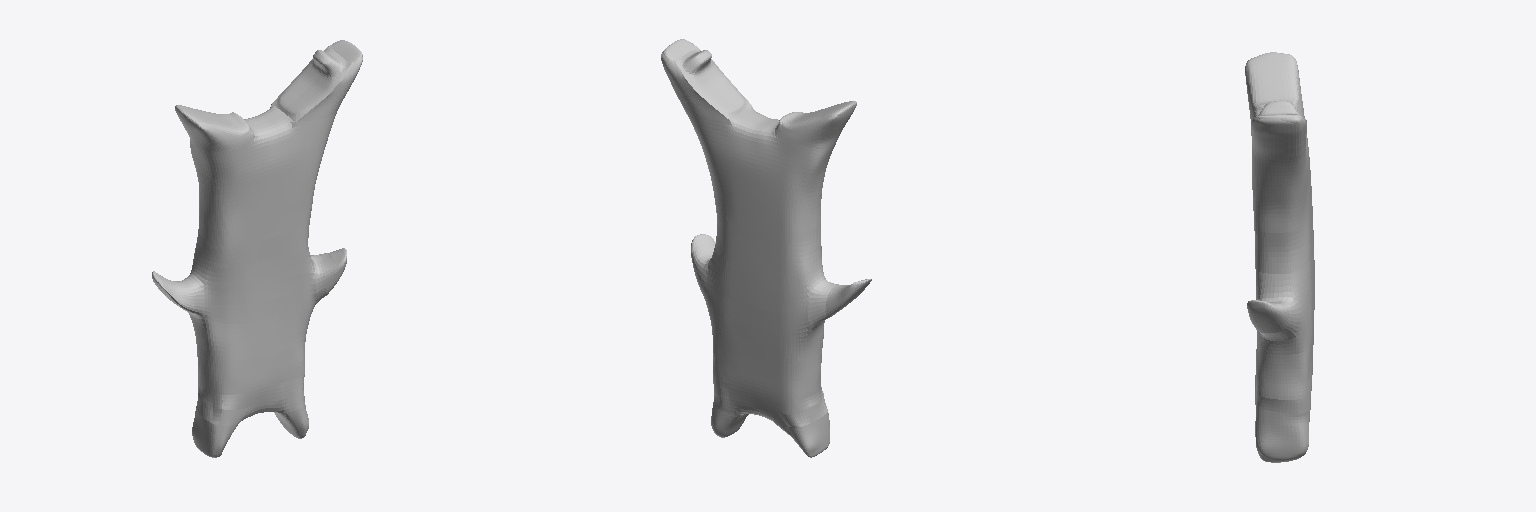
Rendered from korok18.obj.
3 views of the same model, side by side, from view 1: azimuth 30°, elevation 25°; view 2: azimuth 150°, elevation 25°; view 3: azimuth 270°, elevation 25° (orthographic).
Parts seen in each view (by area): view 1: Plane; view 2: Plane; view 3: Plane.
Part boxes in pixels (x1,y1,x2,y2): Plane: (152,40,362,457); Plane: (661,39,871,457); Plane: (1245,52,1314,462).
Size of the model in its own units: 1.01 by 1.83 by 0.3071.